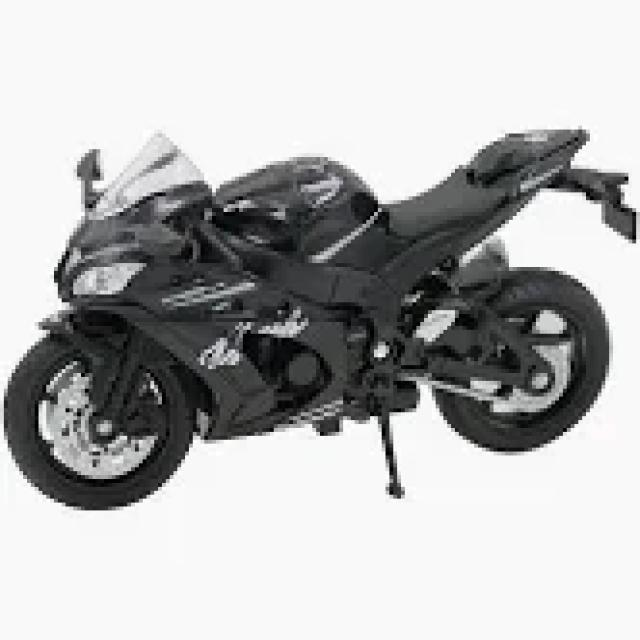motorcycle: (0, 122, 636, 510)
